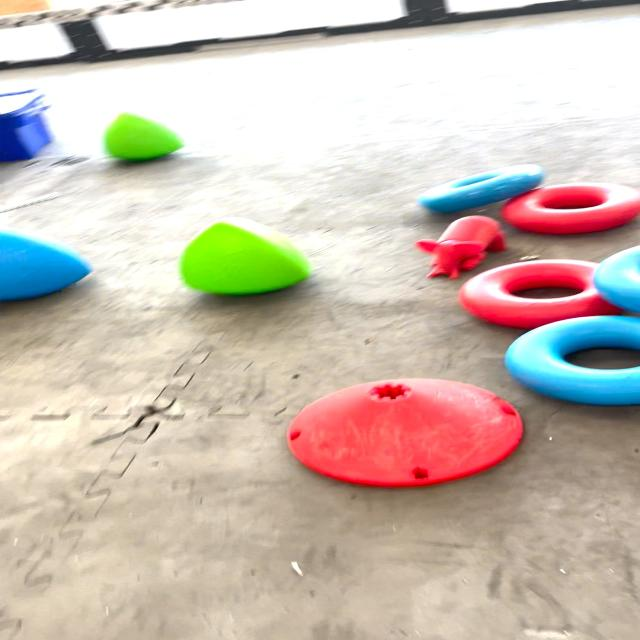Blue-Ring: (504, 316, 640, 405), (418, 164, 544, 212), (593, 245, 640, 321)
Red-Ring: (458, 259, 622, 329), (502, 182, 640, 234)
